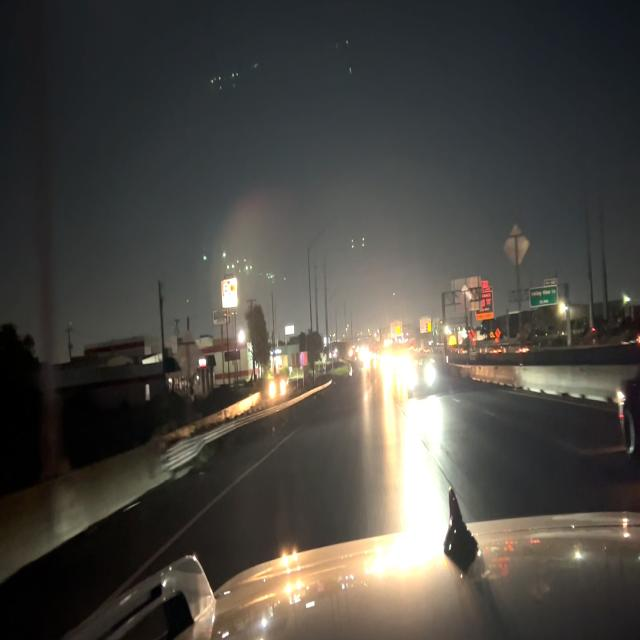back-of-sign: (502, 219, 531, 270), (449, 275, 483, 313)
